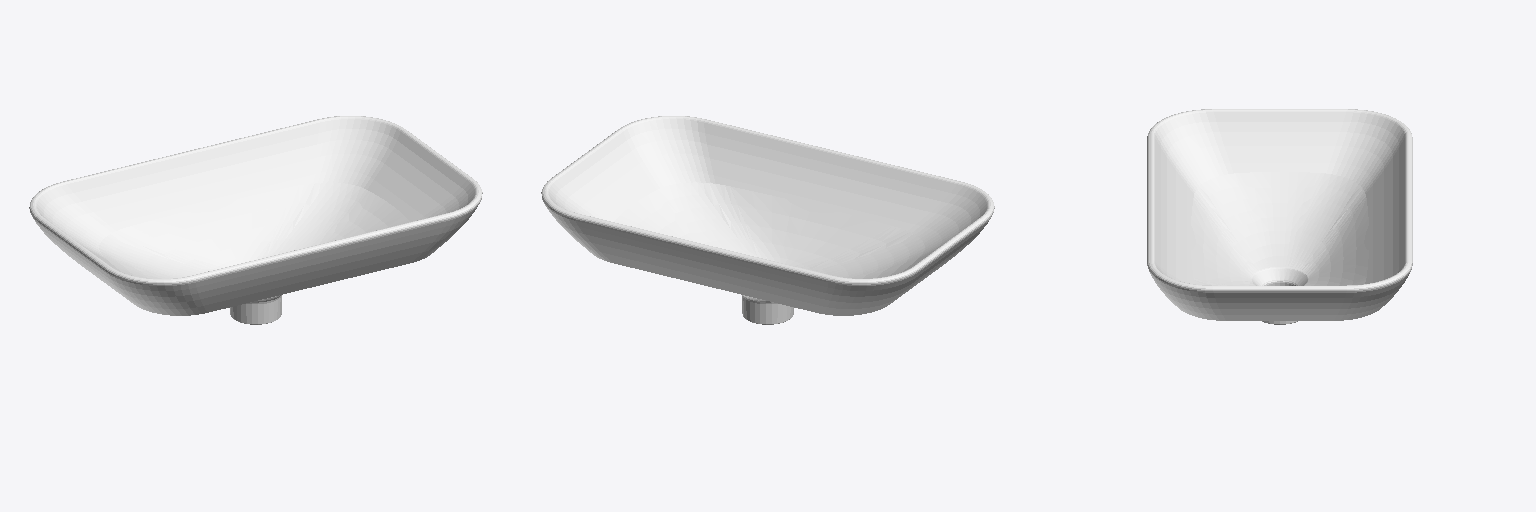
The model's file is pia_pia.obj.
3 views of the same model, side by side, from view 1: azimuth 30°, elevation 25°; view 2: azimuth 150°, elevation 25°; view 3: azimuth 270°, elevation 25° (orthographic).
Visible parts, largest first — view 1: Rectangle04_Mesh.011; view 2: Rectangle04_Mesh.011; view 3: Rectangle04_Mesh.011.
Boxes of the visible parts, x1=… form: Rectangle04_Mesh.011: x1=29, y1=116, x2=482, y2=324; Rectangle04_Mesh.011: x1=541, y1=116, x2=994, y2=324; Rectangle04_Mesh.011: x1=1147, y1=109, x2=1412, y2=324.
Size of the model in its own units: 0.6244 by 0.1886 by 0.3897.